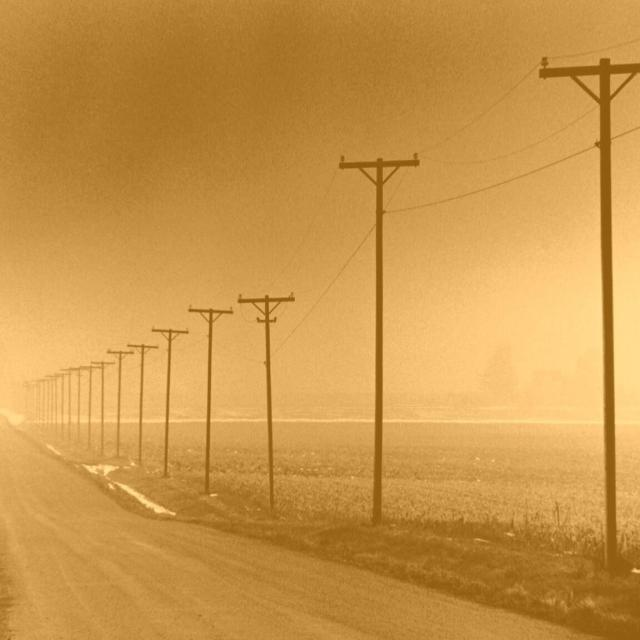pole: (592, 209, 636, 580), (362, 274, 397, 521)
